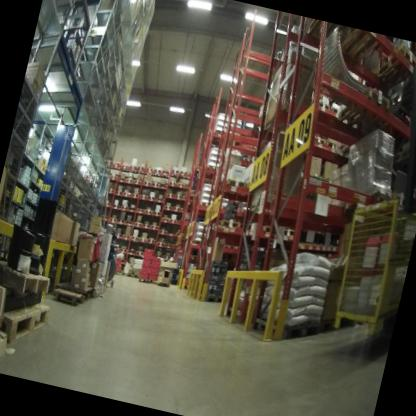forklift: (345, 44, 416, 346)
pallet: (337, 82, 394, 141), (0, 259, 57, 305), (0, 300, 50, 348), (328, 26, 381, 70), (374, 40, 416, 94), (52, 283, 86, 310), (215, 173, 248, 192), (0, 334, 13, 374), (244, 218, 265, 242), (258, 220, 279, 244), (278, 224, 304, 242), (214, 215, 242, 230), (327, 101, 346, 123), (77, 284, 96, 306), (314, 98, 332, 116), (323, 138, 341, 155), (237, 152, 256, 168), (137, 275, 157, 287), (106, 174, 118, 194), (120, 162, 139, 174), (312, 135, 329, 148), (223, 241, 236, 254), (156, 280, 172, 290), (160, 168, 171, 182), (170, 167, 181, 180), (153, 168, 164, 180), (145, 165, 156, 177), (178, 169, 188, 182), (141, 221, 152, 231), (173, 192, 184, 202), (136, 165, 146, 176), (141, 178, 152, 188), (111, 160, 121, 171), (121, 231, 132, 241), (162, 253, 174, 262), (133, 219, 143, 229), (176, 180, 186, 190), (147, 192, 157, 202), (120, 203, 130, 213), (161, 214, 172, 223), (165, 191, 176, 200), (150, 180, 161, 189), (103, 198, 112, 209), (130, 233, 141, 242), (162, 202, 174, 210), (136, 247, 145, 257), (111, 201, 122, 209), (150, 223, 159, 232), (168, 180, 177, 189), (155, 196, 164, 205), (139, 235, 148, 244), (128, 247, 137, 256), (136, 206, 146, 214), (133, 178, 143, 186), (123, 190, 133, 198), (128, 205, 136, 215), (107, 216, 118, 223), (153, 209, 162, 217), (145, 207, 154, 215), (170, 216, 178, 225), (173, 204, 182, 212), (140, 192, 148, 201), (114, 231, 123, 239), (163, 242, 173, 249), (115, 189, 125, 196), (116, 218, 126, 225), (101, 212, 109, 220), (159, 228, 168, 235), (118, 176, 127, 183), (125, 176, 134, 183), (124, 219, 133, 226), (154, 253, 163, 260), (119, 247, 128, 254), (157, 240, 165, 247), (132, 192, 140, 199), (113, 244, 120, 252), (148, 237, 156, 243)
stillage: (322, 181, 416, 345)
